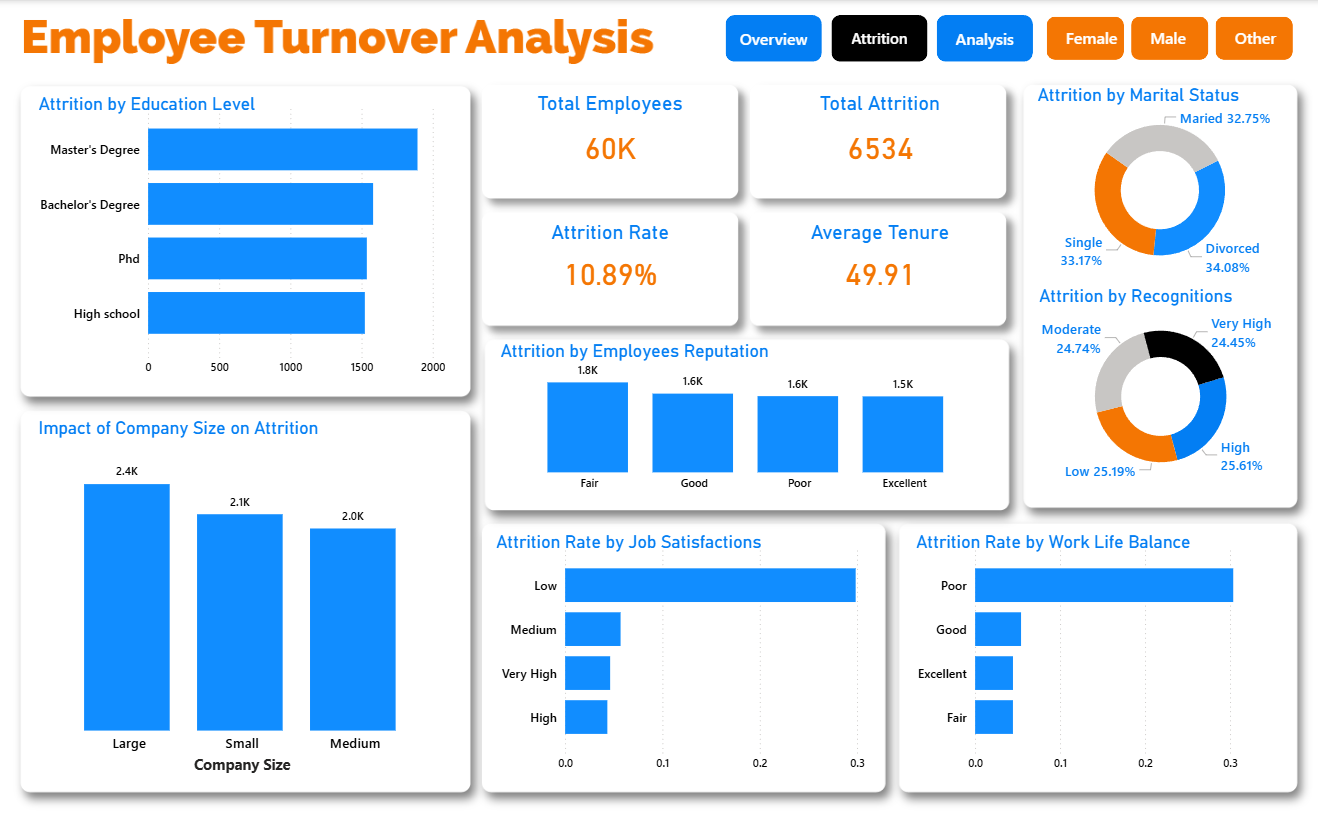

What the dashboard file says about the page in this screenshot:
{"tool":"powerbi","page":{"name":"Attrition","canvas":[1440,900],"ordinal":1},"visuals":[{"type":"card","fields":{"Values":["public employee_attrition_dataset.total_employee"]},"box":[543.4,124.4,248.7,69.8],"z":0},{"type":"card","fields":{"Values":["public employee_attrition_dataset.total_attrition"]},"box":[841.5,124.4,238.5,69.8],"z":1000},{"type":"card","fields":{"Values":["public employee_attrition_dataset.attrition_rate"]},"box":[543.4,264,248.7,63],"z":2000},{"type":"card","fields":{"Values":["public employee_attrition_dataset.avg_tenure"]},"box":[841.5,264,238.5,63],"z":3000},{"type":"textbox","box":[543.4,95.4,248.7,40.9],"z":4000},{"type":"textbox","box":[841.5,95.4,238.5,40.9],"z":5000},{"type":"textbox","box":[543.4,235.1,248.7,40.9],"z":6000},{"type":"textbox","box":[841.5,235.1,238.5,40.9],"z":7000},{"type":"clusteredBarChart","fields":{"Y":["public employee_attrition_dataset.attrition_rate"],"Category":["public employee_attrition_dataset.Job Satisfaction Label"]},"box":[543.4,586,407.1,262.3],"z":8000},{"type":"clusteredBarChart","fields":{"Y":["public employee_attrition_dataset.attrition_rate"],"Category":["public employee_attrition_dataset.Work-Life Balance Label"]},"box":[994.8,586,407.1,262.3],"z":9000},{"type":"donutChart","fields":{"Y":["public employee_attrition_dataset.attrition_rate"],"Category":["public employee_attrition_dataset.Recognition Label"]},"box":[1129.4,327.1,274.3,209.5],"z":10000},{"type":"donutChart","fields":{"Y":["public employee_attrition_dataset.attrition_rate"],"Category":["public employee_attrition_dataset.Marital Status"]},"box":[1129.4,102.2,272.6,207.8],"z":11000},{"type":"clusteredColumnChart","fields":{"Category":["public employee_attrition_dataset.Company Size"],"Y":["public employee_attrition_dataset.total_attrition"]},"box":[39.2,490.6,453.1,357.7],"z":12000},{"type":"clusteredBarChart","fields":{"Category":["public employee_attrition_dataset.Education Level"],"Y":["public employee_attrition_dataset.total_attrition"]},"box":[39.2,102.2,453.1,315.1],"z":13000},{"type":"clusteredColumnChart","fields":{"Y":["public employee_attrition_dataset.total_attrition"],"Category":["public employee_attrition_dataset.Reputation Label"]},"box":[546.8,381.6,536.6,163.5],"z":14000},{"type":"textbox","box":[538.3,574.1,417.4,54.5],"z":15000},{"type":"textbox","box":[994.8,574.1,417.4,54.5],"z":16000},{"type":"textbox","box":[39.2,449.7,417.4,54.5],"z":17000},{"type":"textbox","box":[39.2,97.1,417.4,54.5],"z":18000},{"type":"textbox","box":[543.4,366.2,417.4,54.5],"z":19000},{"type":"textbox","box":[1127.7,86.9,274.3,54.5],"z":20000},{"type":"textbox","box":[1129.4,304.9,274.3,39.2],"z":21000},{"type":"advancedSlicerVisual","fields":{"Values":["public employee_attrition_dataset.Gender"]},"box":[1136.9,13,278.2,57.5],"z":22000},{"type":"pageNavigator","box":[791.9,16.7,337.5,51.9],"z":23000}]}

Visuals, with their boxes in screenshot pixels (x1, y1, x2, y2), scaled from the page's 1440x900 canvas onto the 1318x822 screenshot:
card - public employee_attrition_dataset.total_employee: bbox(497, 114, 725, 177)
card - public employee_attrition_dataset.total_attrition: bbox(770, 114, 988, 177)
card - public employee_attrition_dataset.attrition_rate: bbox(497, 241, 725, 299)
card - public employee_attrition_dataset.avg_tenure: bbox(770, 241, 988, 299)
textbox: bbox(497, 87, 725, 124)
textbox: bbox(770, 87, 988, 124)
textbox: bbox(497, 215, 725, 252)
textbox: bbox(770, 215, 988, 252)
clusteredBarChart - public employee_attrition_dataset.attrition_rate x public employee_attrition_dataset.Job Satisfaction Label: bbox(497, 535, 870, 775)
clusteredBarChart - public employee_attrition_dataset.attrition_rate x public employee_attrition_dataset.Work-Life Balance Label: bbox(911, 535, 1283, 775)
donutChart - public employee_attrition_dataset.attrition_rate x public employee_attrition_dataset.Recognition Label: bbox(1034, 299, 1285, 490)
donutChart - public employee_attrition_dataset.attrition_rate x public employee_attrition_dataset.Marital Status: bbox(1034, 93, 1283, 283)
clusteredColumnChart - public employee_attrition_dataset.Company Size x public employee_attrition_dataset.total_attrition: bbox(36, 448, 451, 775)
clusteredBarChart - public employee_attrition_dataset.Education Level x public employee_attrition_dataset.total_attrition: bbox(36, 93, 451, 381)
clusteredColumnChart - public employee_attrition_dataset.total_attrition x public employee_attrition_dataset.Reputation Label: bbox(500, 349, 992, 498)
textbox: bbox(493, 524, 875, 574)
textbox: bbox(911, 524, 1293, 574)
textbox: bbox(36, 411, 418, 461)
textbox: bbox(36, 89, 418, 138)
textbox: bbox(497, 334, 879, 384)
textbox: bbox(1032, 79, 1283, 129)
textbox: bbox(1034, 278, 1285, 314)
advancedSlicerVisual - public employee_attrition_dataset.Gender: bbox(1041, 12, 1295, 64)
pageNavigator: bbox(725, 15, 1034, 63)
